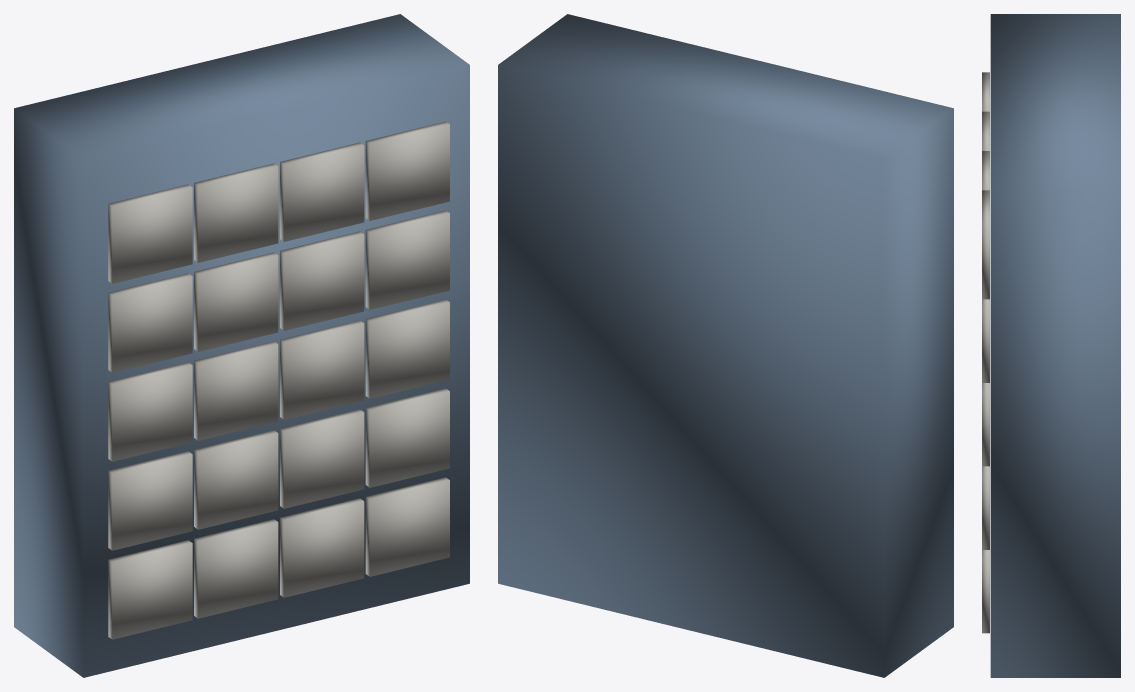
File: parcel_locker__reinforced.glb
3 renders of one model, left to right at view 1: azimuth 30°, elevation 25°; view 2: azimuth 150°, elevation 25°; view 3: azimuth 270°, elevation 25°, orthographic. The views are drawn at different scales.
Visible parts, largest first — view 1: world; view 2: world; view 3: world.
Part boxes in pixels (x1,y1,x2,y2): world: [14, 14, 469, 677]; world: [498, 14, 953, 677]; world: [982, 14, 1120, 677].
Size of the model in its own units: 1.39 by 1.78 by 0.4609.
